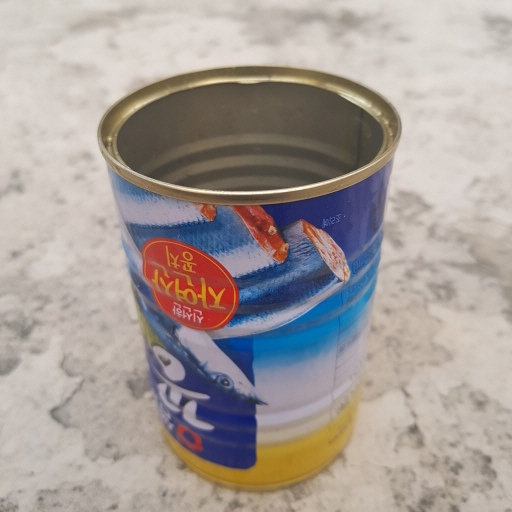Metal_1: (96, 66, 405, 486)
